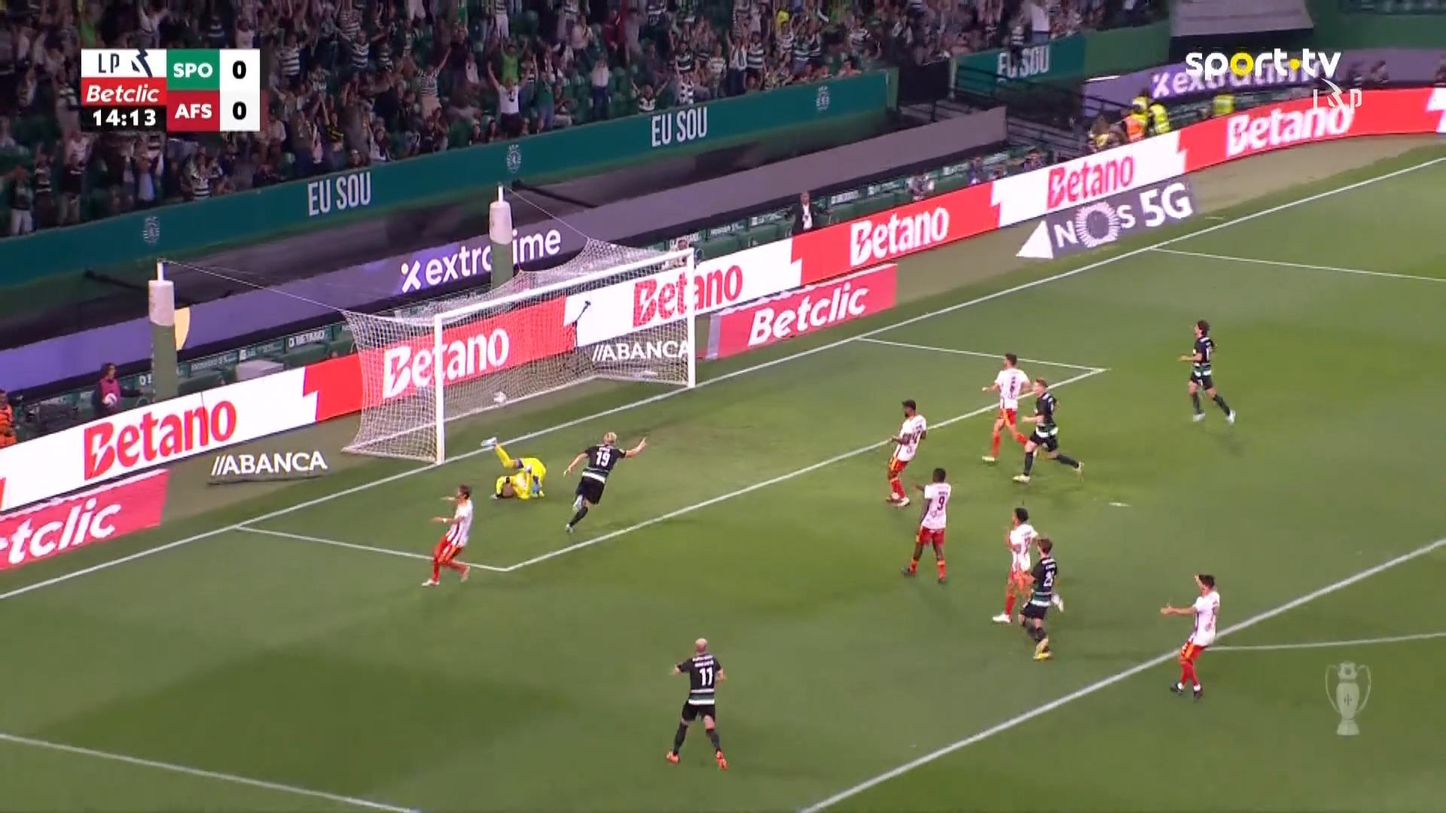ball: (492, 391, 506, 406)
goalkeeper: (479, 435, 546, 501)
player: (562, 430, 648, 534), (665, 637, 728, 771), (1011, 376, 1084, 484), (1159, 572, 1220, 700), (1177, 318, 1236, 424), (900, 467, 951, 583), (980, 352, 1033, 463), (1016, 537, 1063, 660), (420, 483, 474, 586), (991, 506, 1038, 623), (883, 398, 927, 507)
